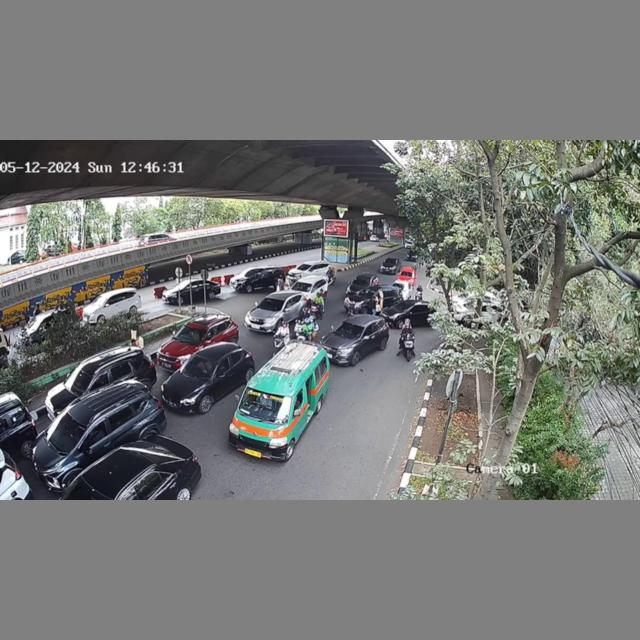windshield: (238, 386, 292, 425), (190, 353, 219, 381), (175, 323, 205, 344), (334, 321, 364, 340), (260, 296, 284, 312)
